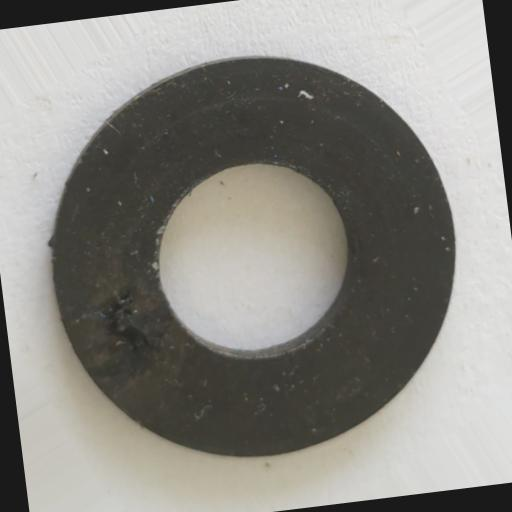defect: (96, 284, 160, 377)
